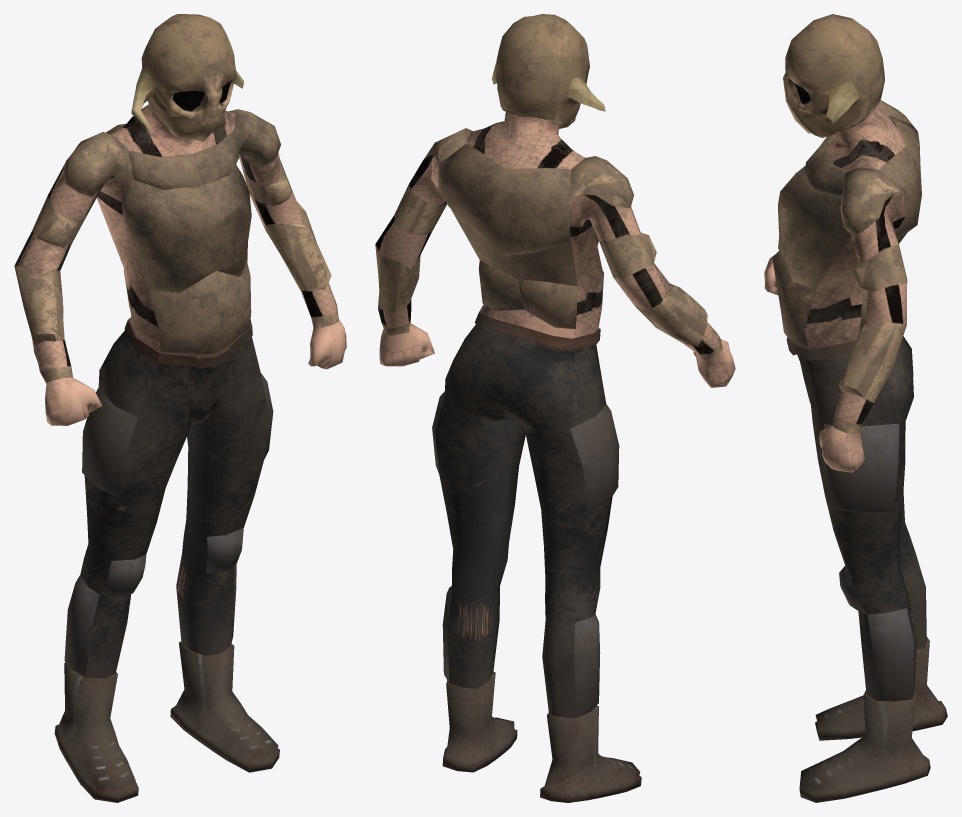
Rendered from Anim_cogerobjeto_npc1.0038.obj.
The picture shows the model from 3 angles, left to right: view 1: azimuth 30°, elevation 25°; view 2: azimuth 150°, elevation 25°; view 3: azimuth 270°, elevation 25°; orthographic projection.
Visible parts, largest first — view 1: NPC2; view 2: NPC2; view 3: NPC2.
Part boxes in pixels (left/top/right/bottom): NPC2: left=14, top=14, right=346, bottom=802; NPC2: left=375, top=14, right=735, bottom=802; NPC2: left=764, top=14, right=947, bottom=802.
Size of the model in its own units: 4.4 by 9.76 by 2.16.
